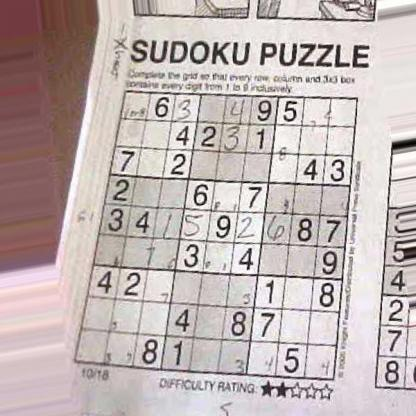sudoku: (70, 87, 360, 381)
